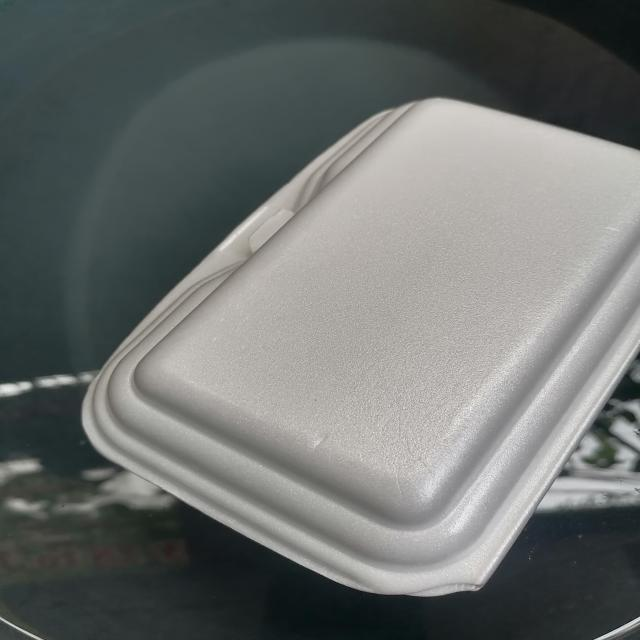Styrofoam Container: (83, 99, 640, 596)
